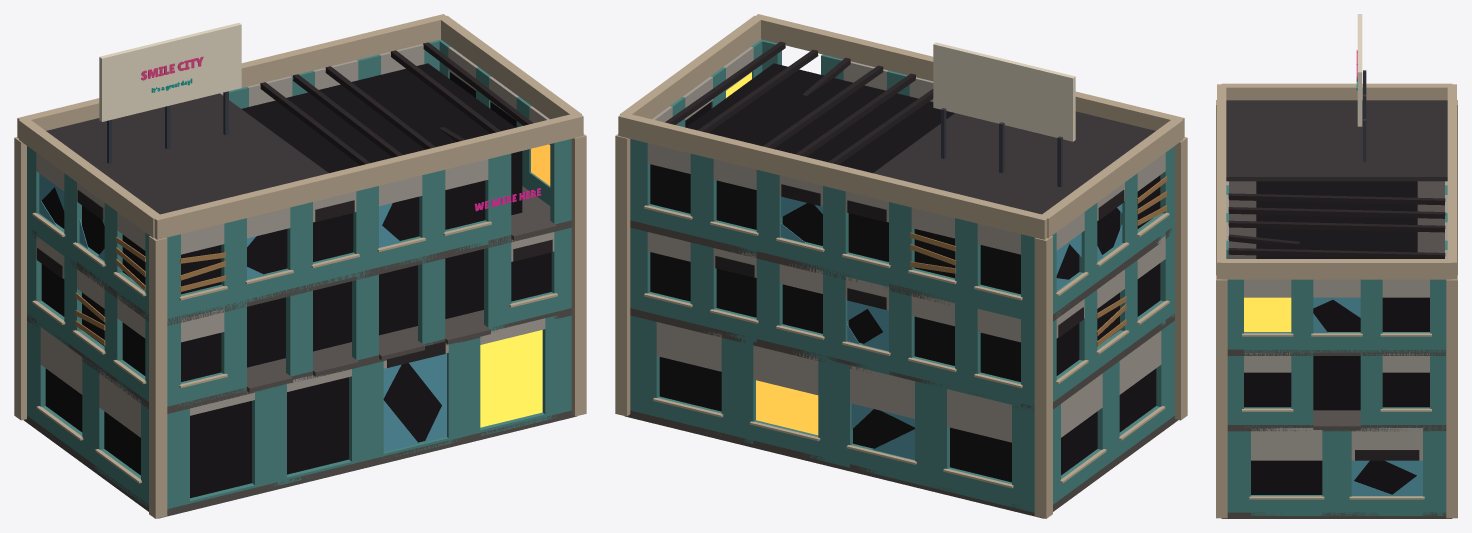
Rendered from city_building_shell_b.glb.
3 renders of one model, left to right at view 1: azimuth 30°, elevation 25°; view 2: azimuth 150°, elevation 25°; view 3: azimuth 270°, elevation 25°, orthographic. The views are drawn at different scales.
Parts seen in each view (by area): view 1: ShellB; view 2: ShellB; view 3: ShellB.
Boxes of the visible parts, x1,y1,x2,y2 form: ShellB: (14,14,586,518); ShellB: (615,14,1187,518); ShellB: (1216,14,1457,518).
Bounding box in the file's own units: 18.5 × 16.25 × 10.5.
